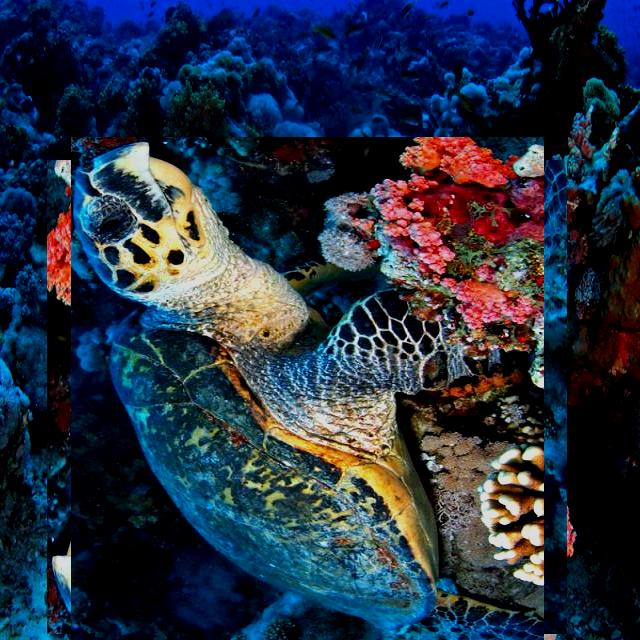Sea turtle: (58, 148, 555, 640)
